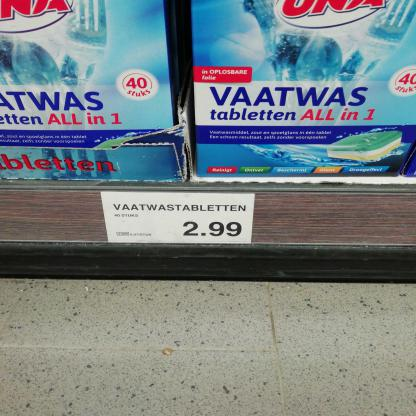prtg: (101, 193, 256, 245)
